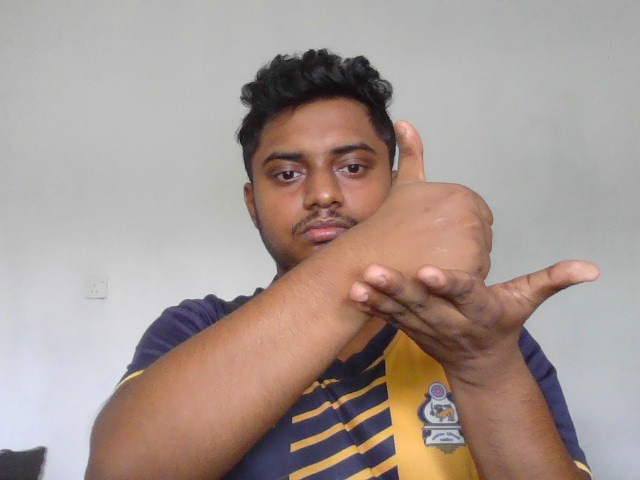Help: (344, 120, 604, 357)
